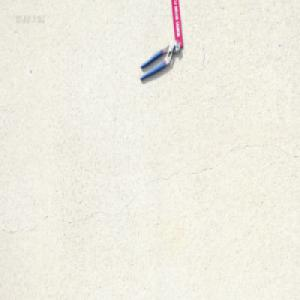Label: (170, 0, 183, 48)
Pliers: (138, 38, 181, 81)
